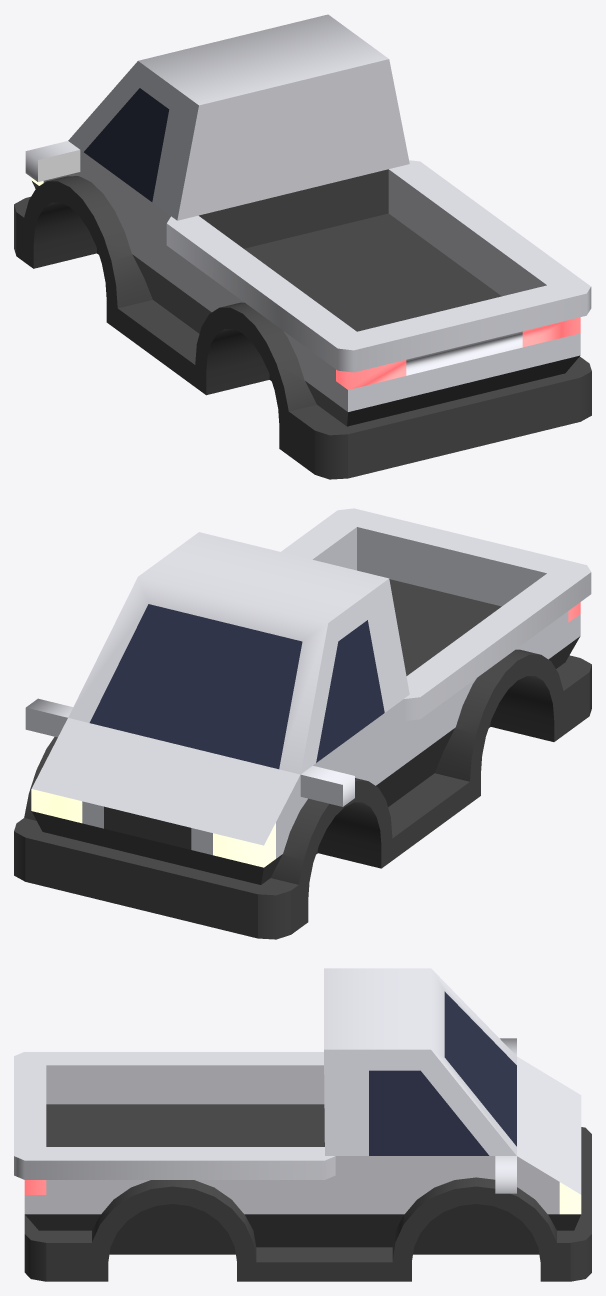
File: SM_Truck_Flat_Body.fbx
The picture shows the model from 3 angles, top to bottom: view 1: azimuth 30°, elevation 25°; view 2: azimuth 150°, elevation 25°; view 3: azimuth 270°, elevation 25°; orthographic projection. The views are drawn at different scales.
Parts seen in each view (by area): view 1: SM_Truck_Flat_Body; view 2: SM_Truck_Flat_Body; view 3: SM_Truck_Flat_Body.
Part boxes in pixels (x1,y1,x2,y2): SM_Truck_Flat_Body: (14, 14, 591, 479); SM_Truck_Flat_Body: (14, 508, 591, 939); SM_Truck_Flat_Body: (14, 968, 591, 1281).
Bounding box in the file's own units: 1.5 × 1.1 × 2.7.
